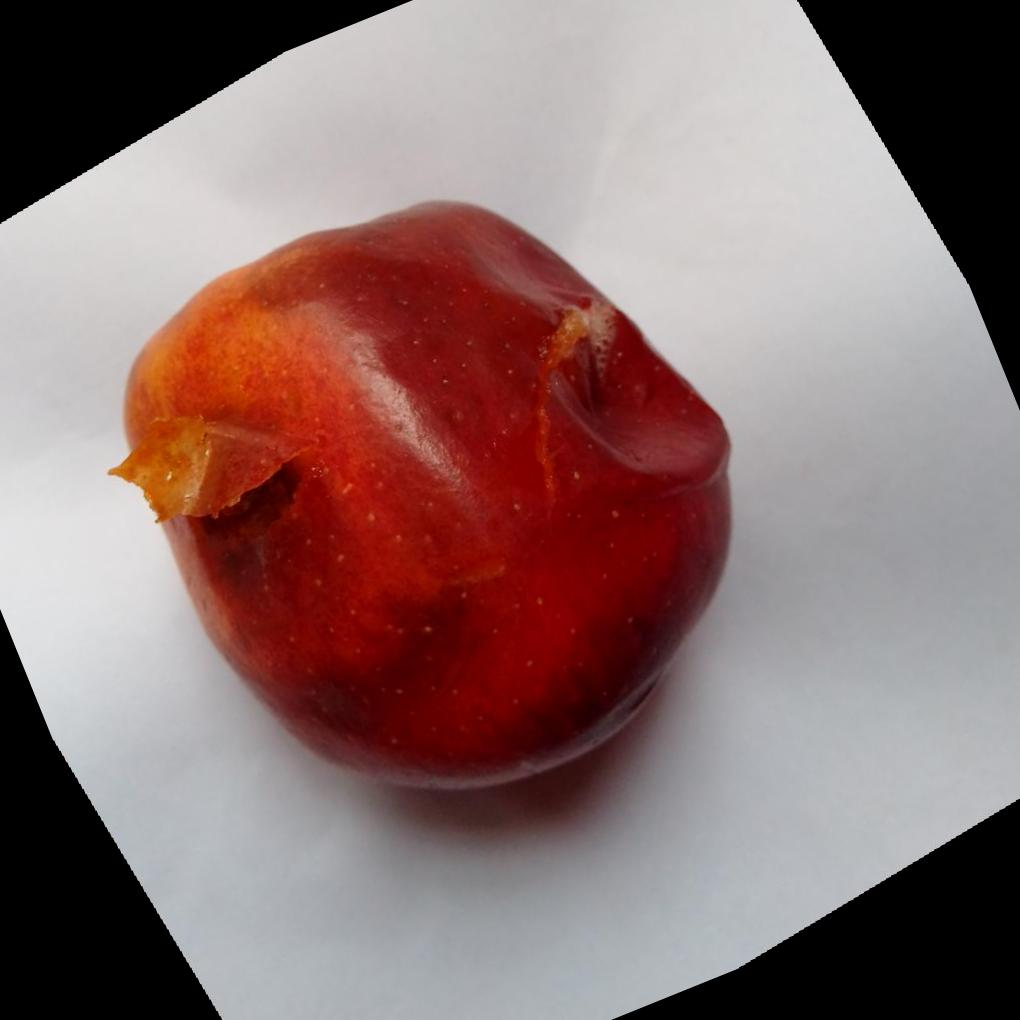FreshOrange: (111, 200, 736, 798)
